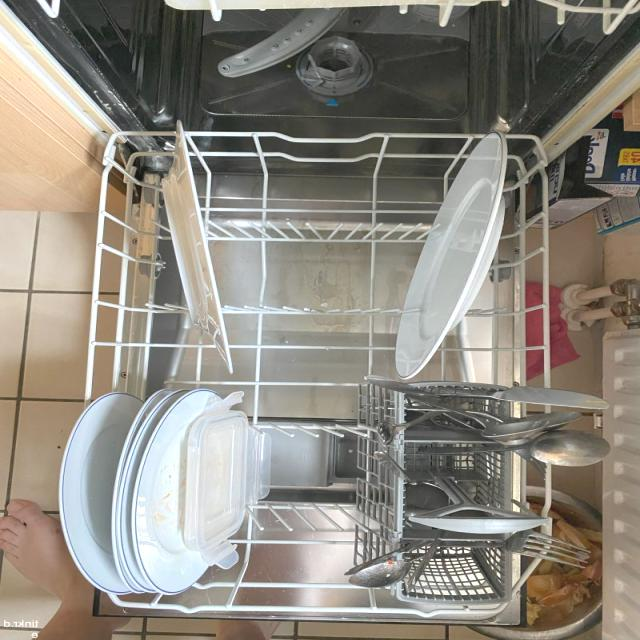clutery_bin: (384, 382, 548, 612)
empty_slot: (231, 140, 414, 366), (248, 392, 362, 586)
